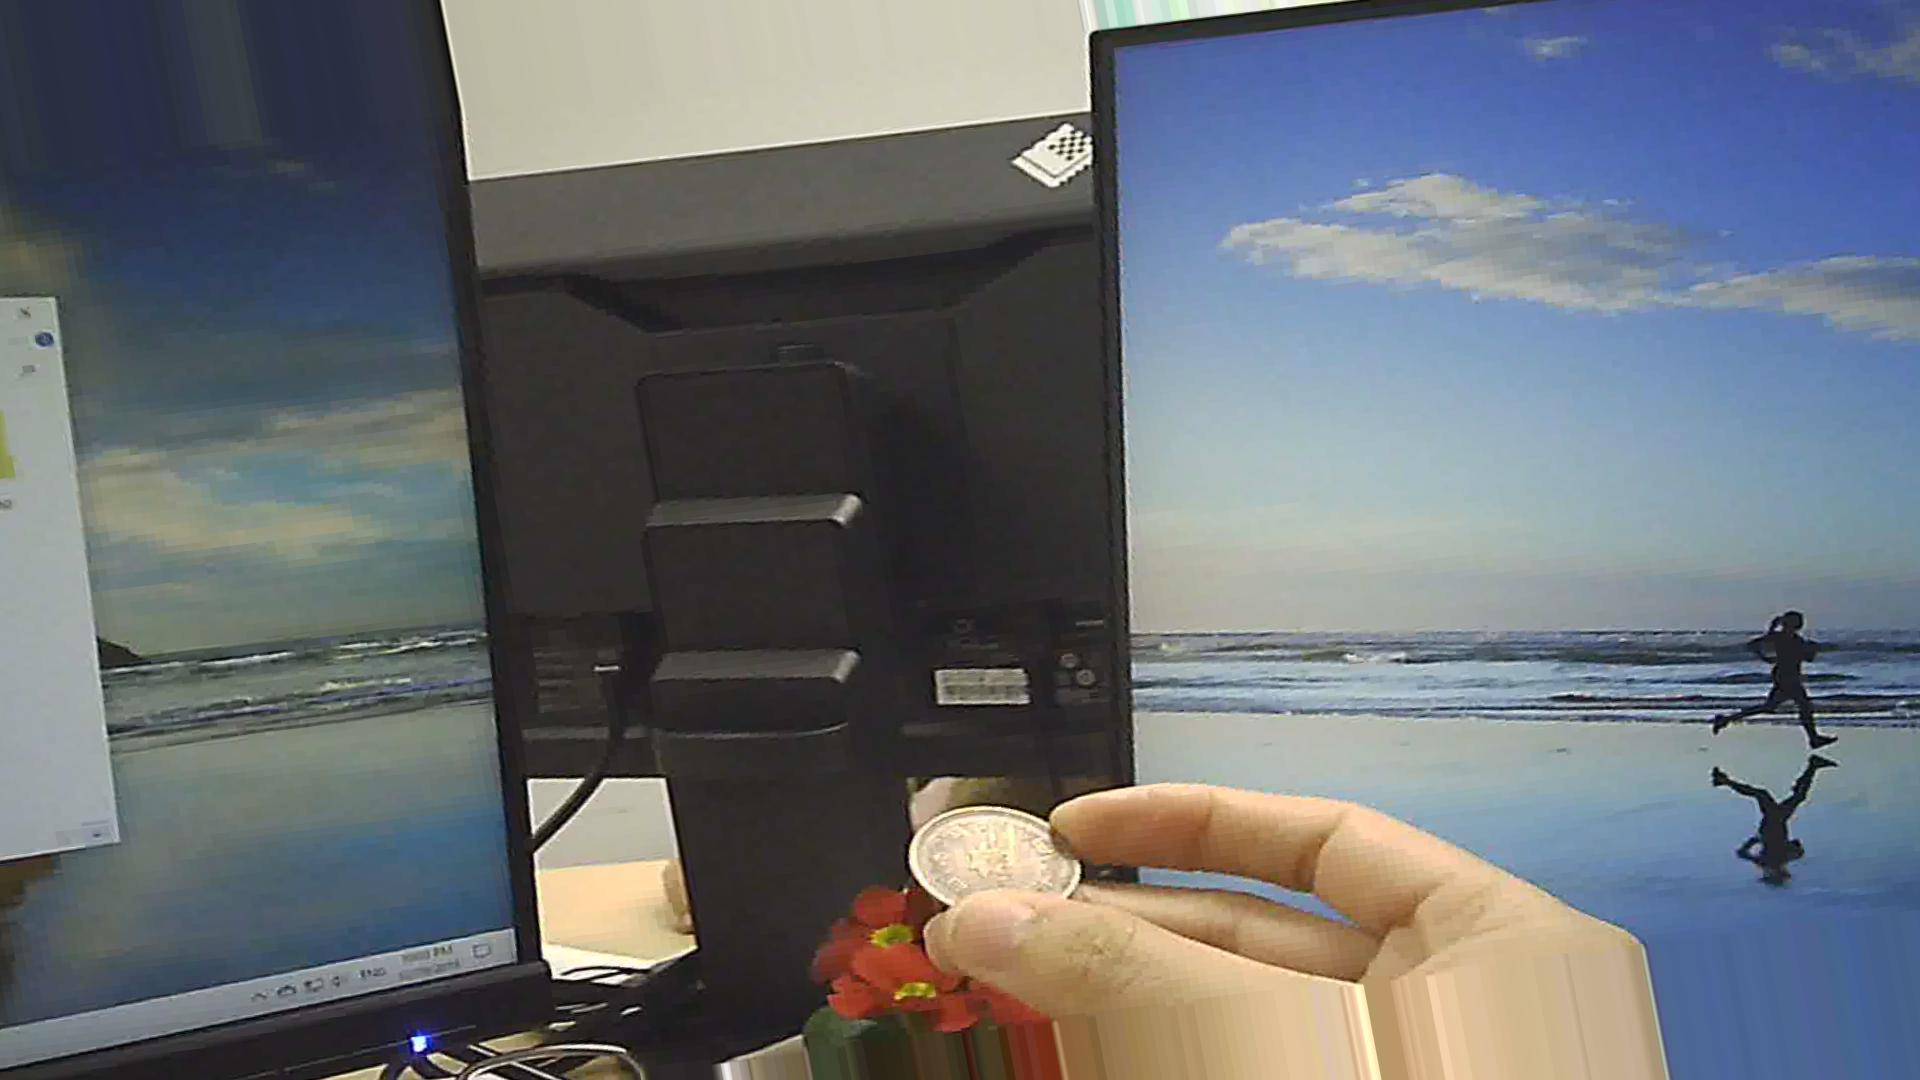10 Yen: (899, 806, 1077, 907)
